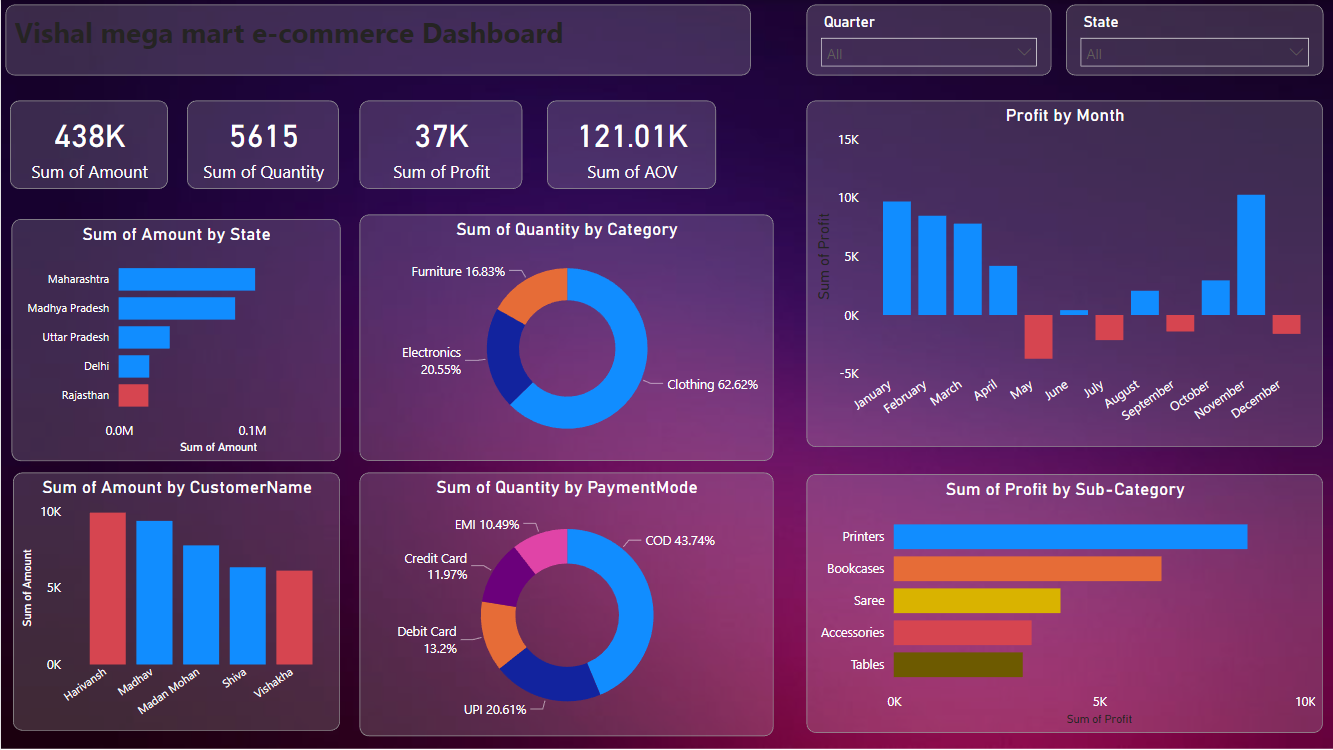

What the dashboard file says about the page in this screenshot:
{"tool":"powerbi","page":{"name":"Page 1","canvas":[1280,720],"ordinal":0},"visuals":[{"type":"columnChart","title":"Profit by Month","fields":{"Y":["Details.Profit"],"Category":["Orders.Order Date.Variation.Date Hierarchy.Month"]},"box":[772.2,96.3,494.6,332.3],"z":0},{"type":"barChart","fields":{"Category":["Details.Sub-Category"],"Y":["Details.Profit"]},"box":[771.6,453.9,494.8,248.1],"z":1000},{"type":"donutChart","fields":{"Category":["Details.Category"],"Y":["Details.Quantity"]},"box":[343.5,205.8,396.4,236],"z":2000},{"type":"donutChart","fields":{"Y":["Details.Quantity"],"Category":["Details.PaymentMode"]},"box":[343.6,453.1,396.5,253],"z":3000},{"type":"card","fields":{"Values":["Details.Quantity"]},"box":[178.5,96.8,145.2,84.7],"z":4000},{"type":"card","fields":{"Values":["Details.Amount"]},"box":[9.1,96.8,151.3,84.7],"z":5000},{"type":"card","fields":{"Values":["Details.AOV"]},"box":[523.5,96.8,161.9,84.7],"z":6000},{"type":"card","fields":{"Values":["Details.Profit"]},"box":[343.5,96.8,155.8,84.7],"z":7000},{"type":"barChart","fields":{"Category":["Orders.State"],"Y":["Details.Amount"]},"box":[9.4,209.6,315.3,232.2],"z":8000},{"type":"clusteredColumnChart","fields":{"Category":["Orders.CustomerName"],"Y":["Details.Amount"]},"box":[11.3,453.1,313.4,247.3],"z":9000},{"type":"textbox","box":[4.5,4.5,714.1,68.1],"z":10000},{"type":"slicer","fields":{"Values":["Orders.State"]},"box":[1019.8,4.5,246.6,68.1],"z":12000},{"type":"slicer","fields":{"Values":["Orders.Order Date.Variation.Date Hierarchy.Quarter"]},"box":[771.6,4.5,234.5,68.1],"z":12001}]}

Visuals, with their boxes in screenshot pixels (x1, y1, x2, y2), scaled from the page's 1280x720 canvas onto the 1333x750 screenshot:
"Profit by Month" columnChart: box(804, 100, 1319, 446)
barChart - Details.Sub-Category x Details.Profit: box(804, 473, 1319, 731)
donutChart - Details.Category x Details.Quantity: box(358, 214, 771, 460)
donutChart - Details.Quantity x Details.PaymentMode: box(358, 472, 771, 736)
card - Details.Quantity: box(186, 101, 337, 189)
card - Details.Amount: box(9, 101, 167, 189)
card - Details.AOV: box(545, 101, 714, 189)
card - Details.Profit: box(358, 101, 520, 189)
barChart - Orders.State x Details.Amount: box(10, 218, 338, 460)
clusteredColumnChart - Orders.CustomerName x Details.Amount: box(12, 472, 338, 730)
textbox: box(5, 5, 748, 76)
slicer - Orders.State: box(1062, 5, 1319, 76)
slicer - Orders.Order Date.Variation.Date Hierarchy.Quarter: box(804, 5, 1048, 76)
